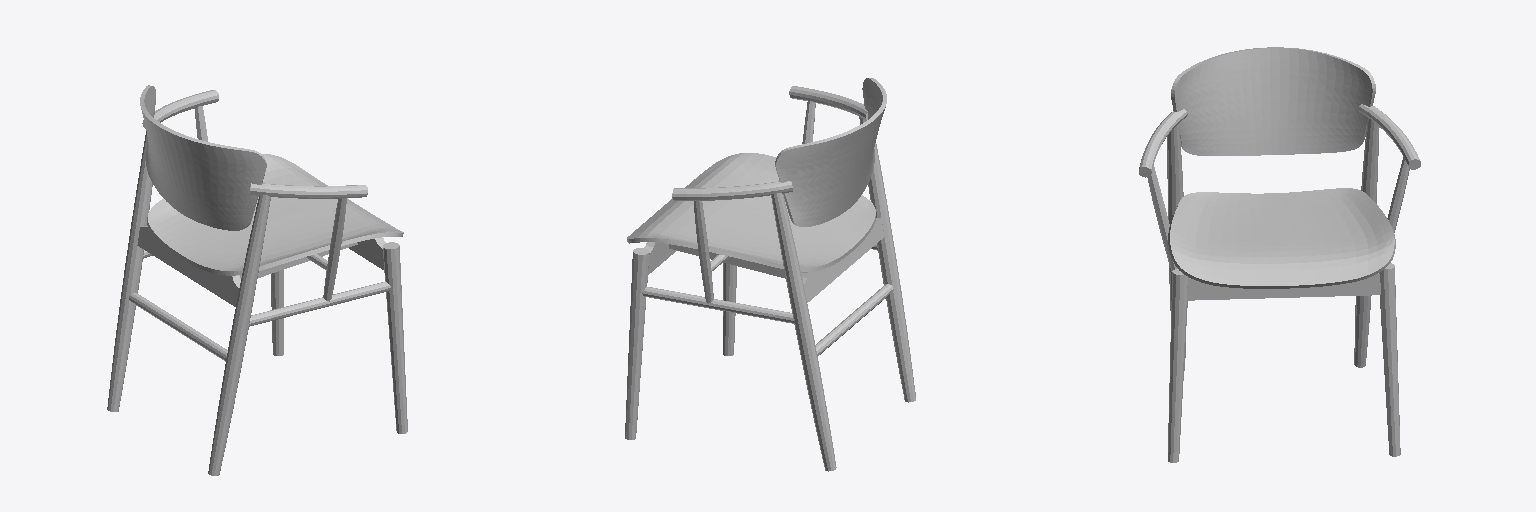
Rendered from chair.obj.
The picture shows the model from 3 angles: view 1: azimuth 30°, elevation 25°; view 2: azimuth 150°, elevation 25°; view 3: azimuth 270°, elevation 25°; orthographic projection.
Parts seen in each view (by area): view 1: N01; view 2: N01; view 3: N01.
Part boxes in pixels (x1,y1,x2,y2): N01: (107, 85, 407, 475); N01: (625, 78, 915, 471); N01: (1139, 47, 1420, 462).
Bounding box in the file's own units: 54.42 × 76.94 × 61.8.